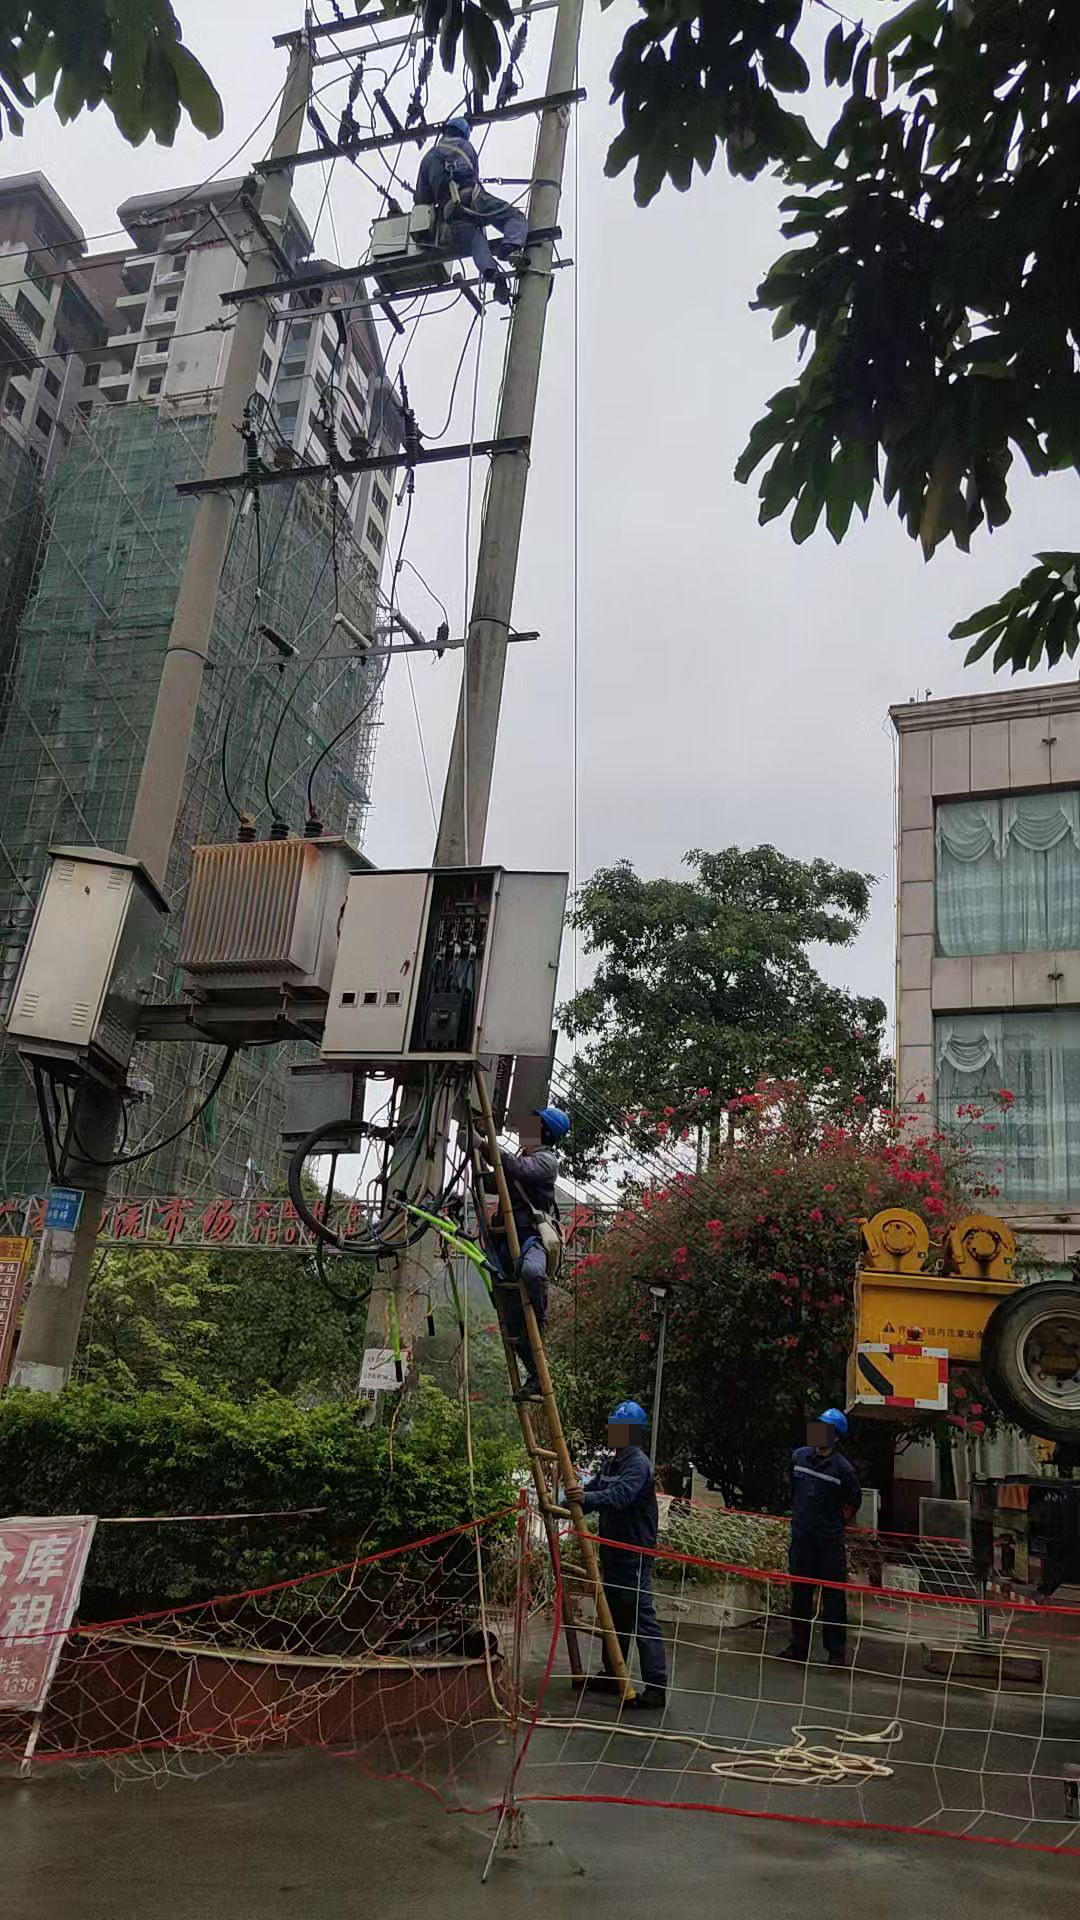downsuit: (601, 1561, 666, 1685), (491, 1242, 550, 1377), (446, 189, 528, 277), (791, 1535, 849, 1654)
halt: (602, 1402, 649, 1450), (526, 1105, 572, 1146), (808, 1408, 853, 1449), (441, 114, 474, 140)
hand: (566, 1482, 589, 1510)
inear: (628, 1424, 642, 1444), (525, 1118, 545, 1131), (830, 1430, 841, 1443)
person: (461, 1097, 576, 1392), (571, 1397, 671, 1687), (411, 115, 534, 306), (775, 1407, 866, 1657)
safebelt: (426, 145, 564, 201)
support: (563, 1392, 673, 1713)
upsuit: (585, 1447, 658, 1564), (487, 1145, 561, 1241), (786, 1446, 862, 1530), (414, 143, 482, 213)
wglove: (457, 1121, 487, 1150)
